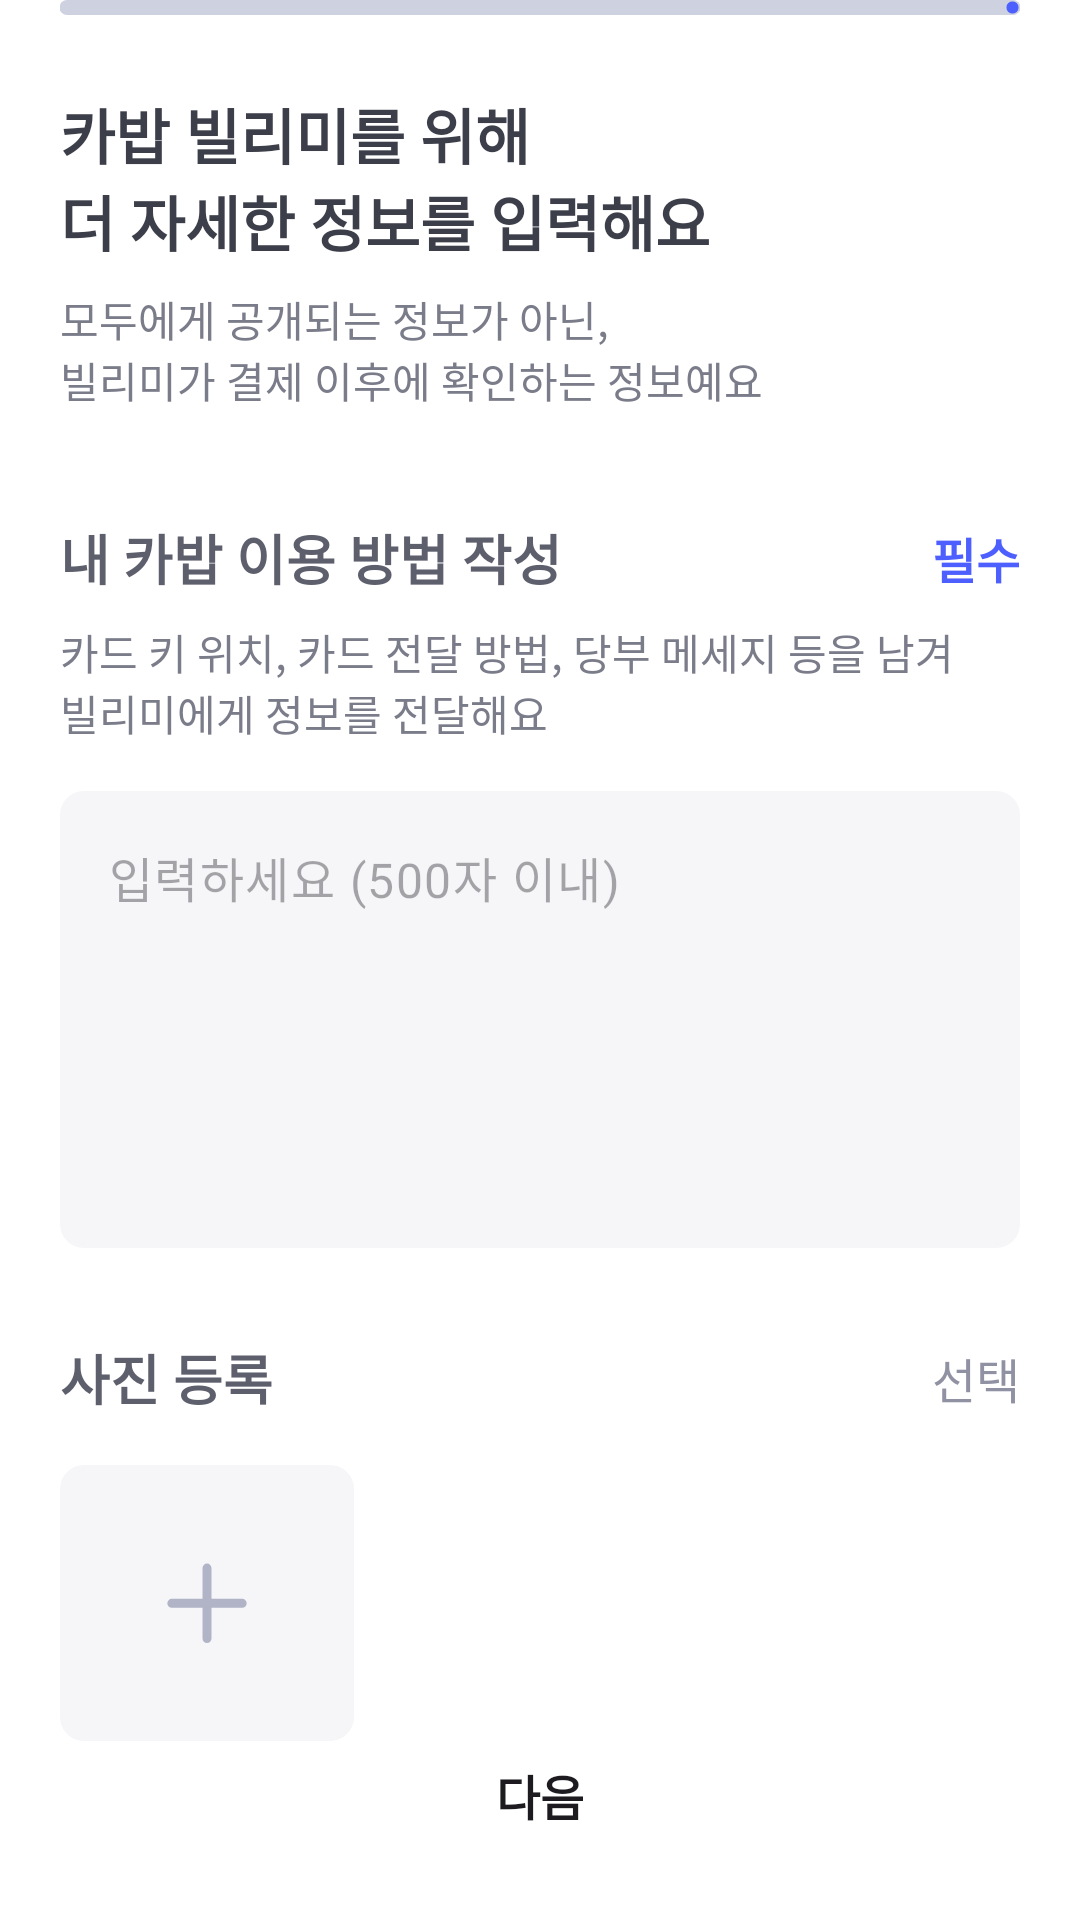

Screen size 1080×1920. Icon name, then its center in pixels as [x,y]:
plus: [207,1603]
